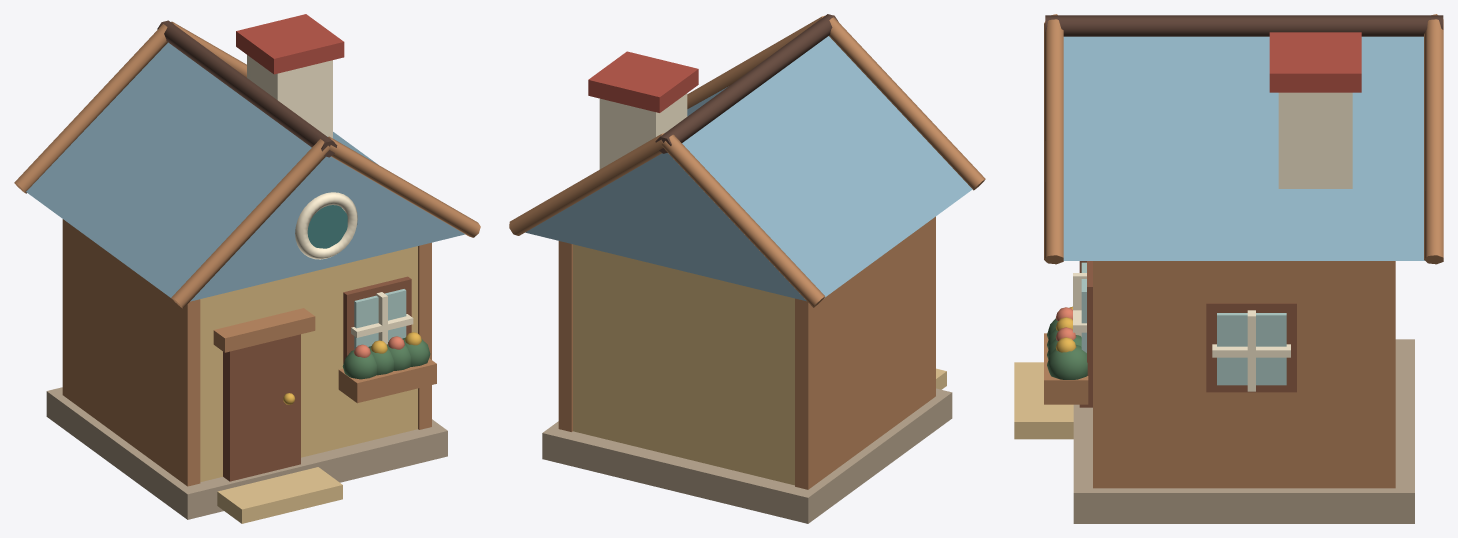
Rendered from cottage-blue.glb.
3 renders of one model, left to right at view 1: azimuth 30°, elevation 25°; view 2: azimuth 150°, elevation 25°; view 3: azimuth 270°, elevation 25°, orthographic. The views are drawn at different scales.
Visible parts, largest first — view 1: surface_#91b4c5, surface_#be8960, surface_#e6c58a, surface_#936047, surface_#bca991, surface_#fff2d6, surface_#b95648, surface_#e7c994, surface_#62473b, surface_#577d5b, surface_#b7d5cf, surface_#4b8584; view 2: surface_#91b4c5, surface_#e6c58a, surface_#be8960, surface_#bca991, surface_#b95648, surface_#62473b, surface_#fff2d6; view 3: surface_#be8960, surface_#91b4c5, surface_#bca991, surface_#fff2d6, surface_#62473b, surface_#b95648, surface_#b7d5cf, surface_#936047, surface_#e7c994, surface_#577d5b.
Part boxes in pixels (x1,y1,x2,y2): surface_#91b4c5: (26,42,465,301); surface_#be8960: (14,21,480,486); surface_#e6c58a: (200,246,417,482); surface_#936047: (223,276,411,481); surface_#bca991: (46,387,447,519); surface_#fff2d6: (247,55,413,344); surface_#b95648: (236,14,344,74); surface_#e7c994: (217,467,342,523); surface_#62473b: (157,20,337,157); surface_#577d5b: (342,337,430,379); surface_#b7d5cf: (354,289,406,349); surface_#4b8584: (307,205,347,248); surface_#91b4c5: (525,36,972,301); surface_#e6c58a: (573,244,794,485); surface_#be8960: (509,15,985,489); surface_#bca991: (542,388,952,523); surface_#b95648: (588,51,698,112); surface_#62473b: (655,14,838,153); surface_#fff2d6: (599,93,687,169); surface_#be8960: (1044,14,1443,488); surface_#91b4c5: (1063,36,1424,260); surface_#bca991: (1073,339,1414,523); surface_#fff2d6: (1073,92,1352,391); surface_#62473b: (1045,15,1443,36); surface_#b95648: (1269,32,1361,92); surface_#b7d5cf: (1081,262,1286,385); surface_#936047: (1079,261,1296,407); surface_#e7c994: (1014,362,1073,439); surface_#577d5b: (1047,318,1087,379).
Bounding box in the file's own units: 2.88 × 3.25 × 2.89.
